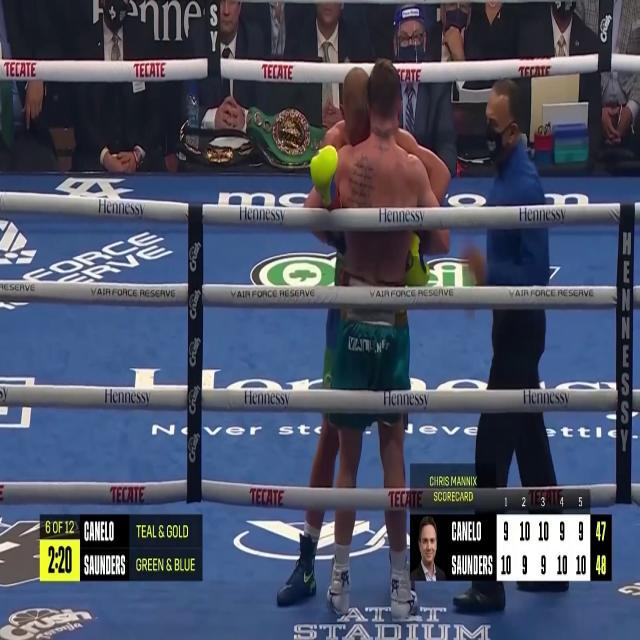boxer_1: (396, 127, 452, 203), (323, 66, 370, 148), (305, 187, 324, 207)
boxer_2: (335, 58, 438, 207), (344, 231, 412, 284), (421, 229, 450, 253)
gloves_1: (310, 144, 338, 205)
